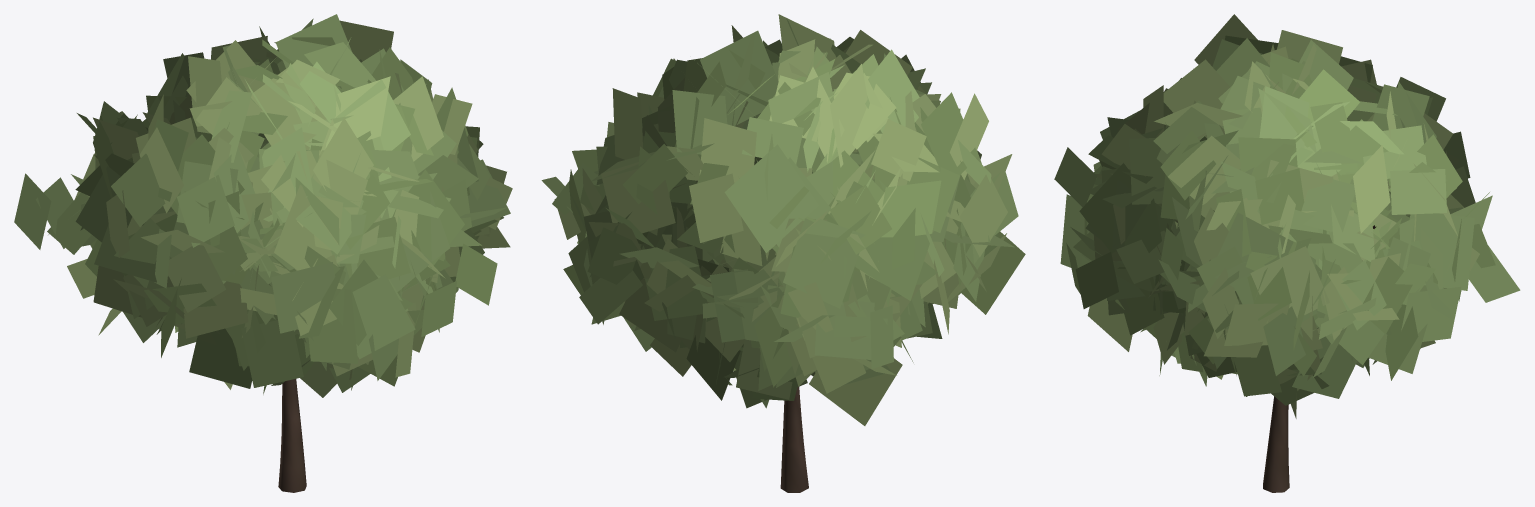
Rendered from whiteblossom_1.glb.
3 renders of one model, left to right at view 1: azimuth 30°, elevation 25°; view 2: azimuth 150°, elevation 25°; view 3: azimuth 270°, elevation 25°, orthographic. The views are drawn at different scales.
Visible parts, largest first — view 1: whiteblossom_1; view 2: whiteblossom_1; view 3: whiteblossom_1.
Boxes of the visible parts, left/top/right/bottom form: whiteblossom_1: left=14, top=14, right=512, bottom=492; whiteblossom_1: left=541, top=14, right=1025, bottom=492; whiteblossom_1: left=1054, top=14, right=1520, bottom=492.
Bounding box in the file's own units: 1 × 1 × 0.9907.
